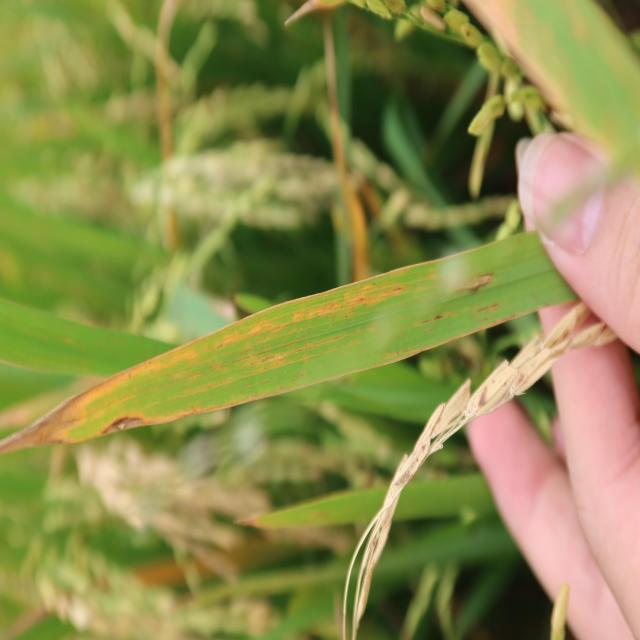Dom soc vi khuan: (54, 341, 204, 423), (25, 394, 252, 445), (204, 310, 299, 387), (288, 272, 414, 328)
